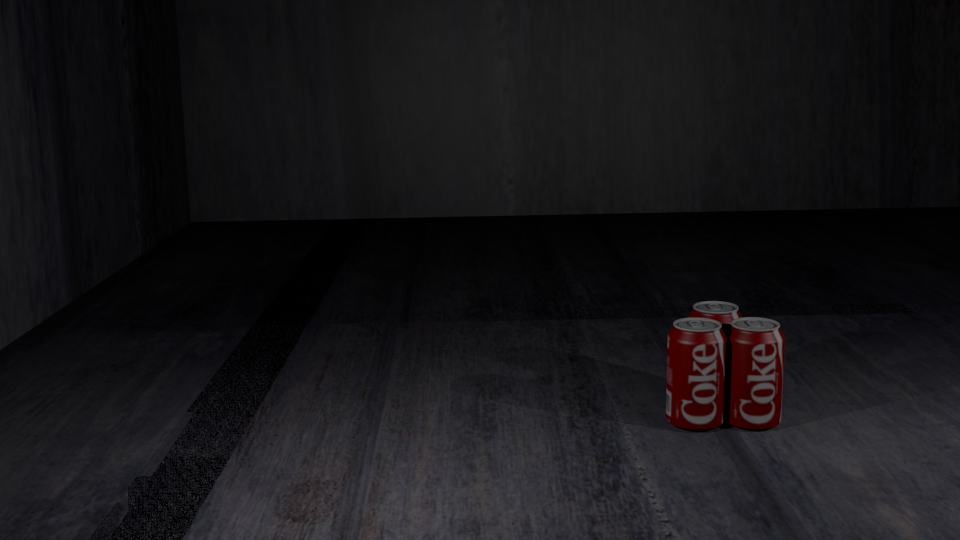cola_can: (725, 317, 784, 425), (667, 318, 725, 426), (689, 301, 742, 404)
